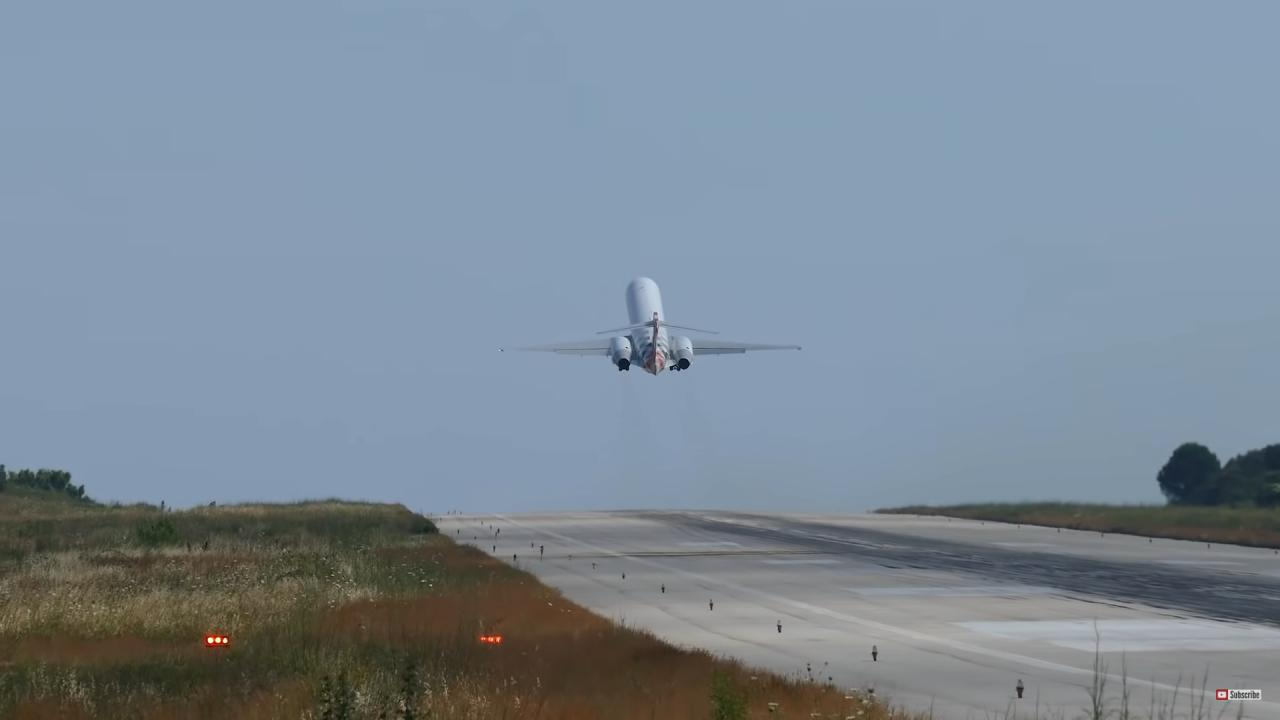Airplane: (486, 264, 816, 386)
